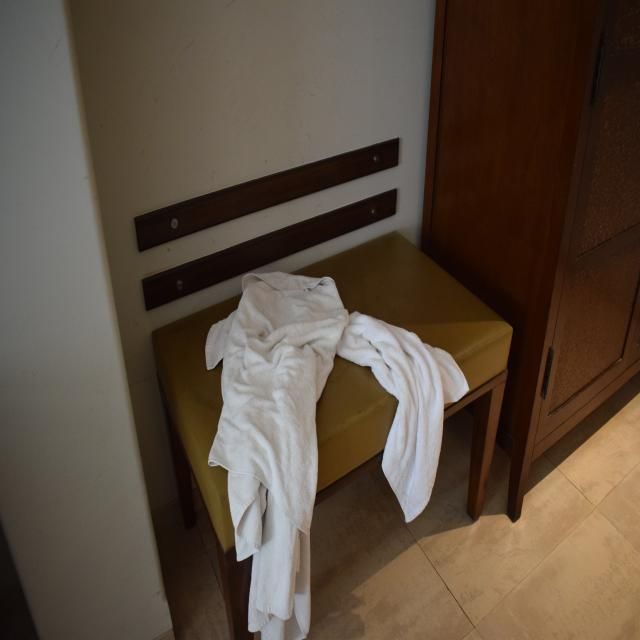mess: (147, 282, 539, 464)
